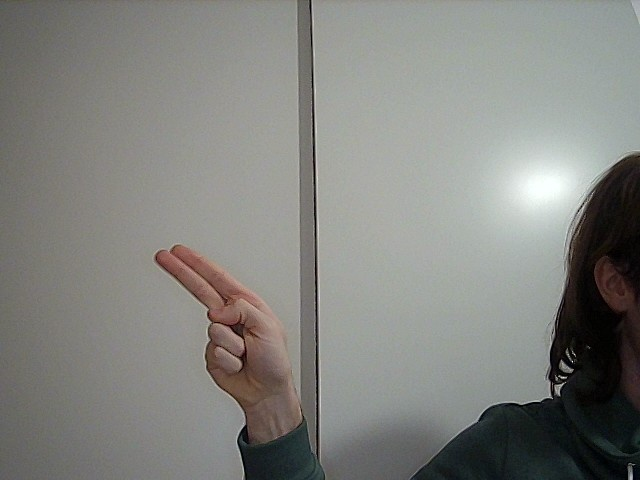h: (153, 227, 324, 412)
